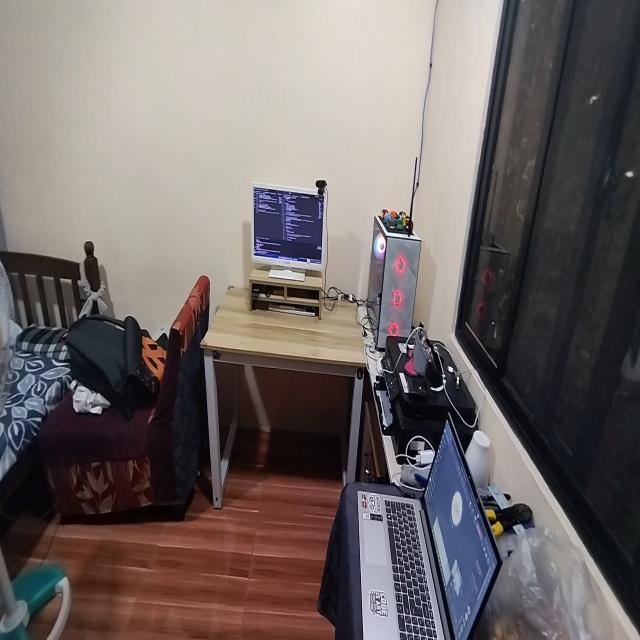table: (198, 274, 370, 521)
